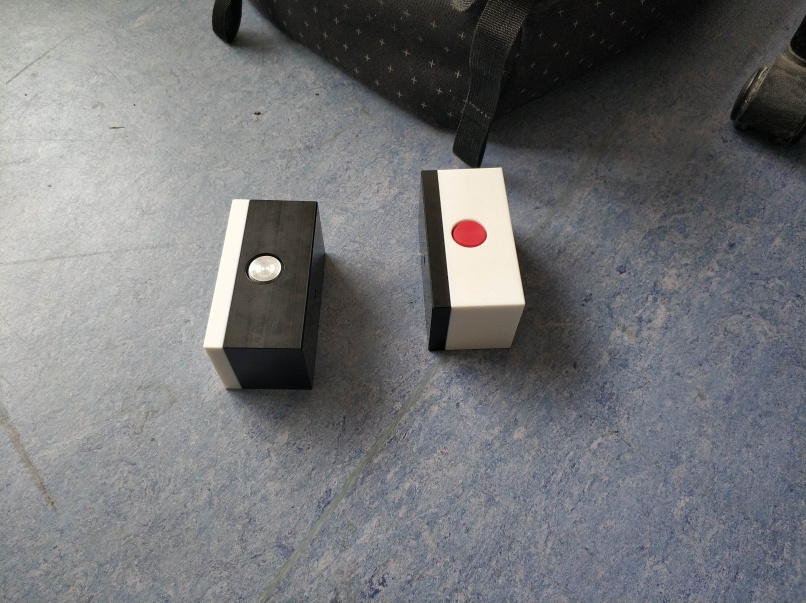black+white+red: (415, 164, 529, 357)
white+black+silver: (200, 195, 328, 396)
